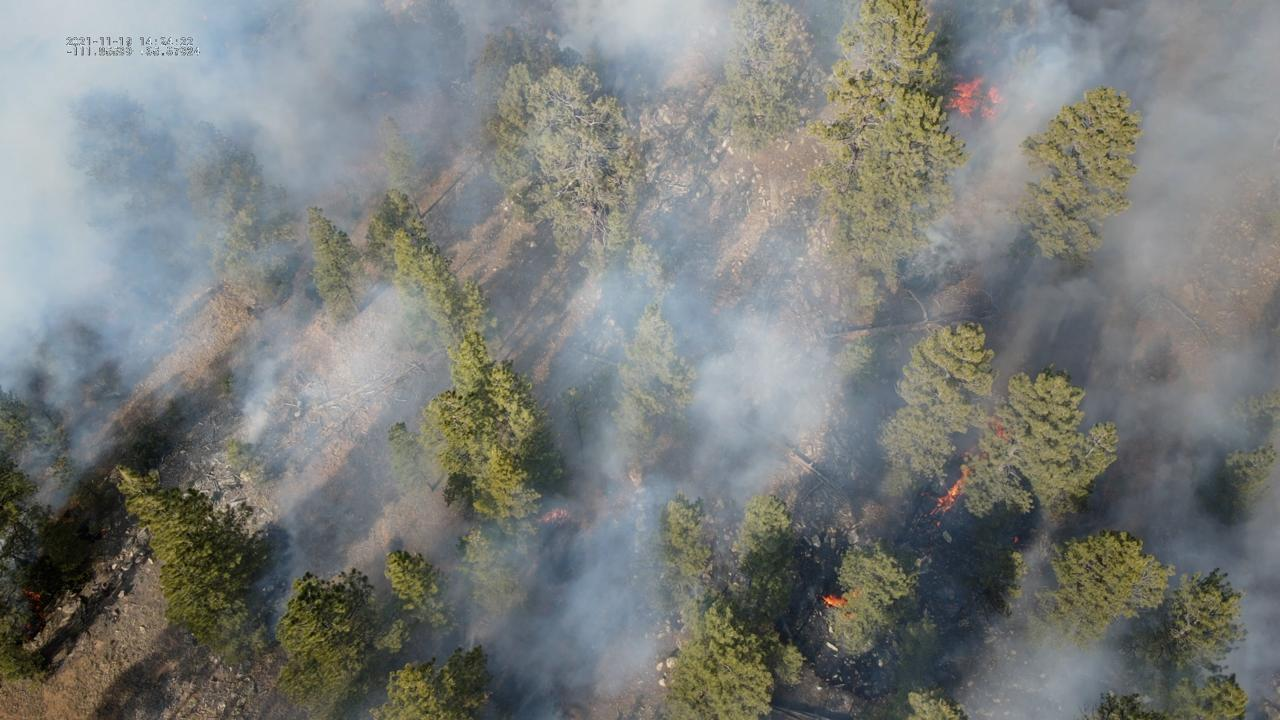fire: (944, 76, 1007, 122), (929, 467, 970, 516), (536, 506, 573, 527), (818, 593, 849, 608), (32, 604, 49, 623), (24, 589, 44, 603), (995, 425, 1007, 439), (1012, 535, 1018, 543), (936, 521, 941, 529)
smoke: (0, 0, 1280, 720)
